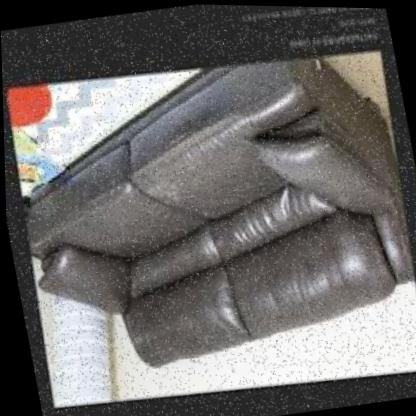Sofa: (1, 29, 416, 407)
